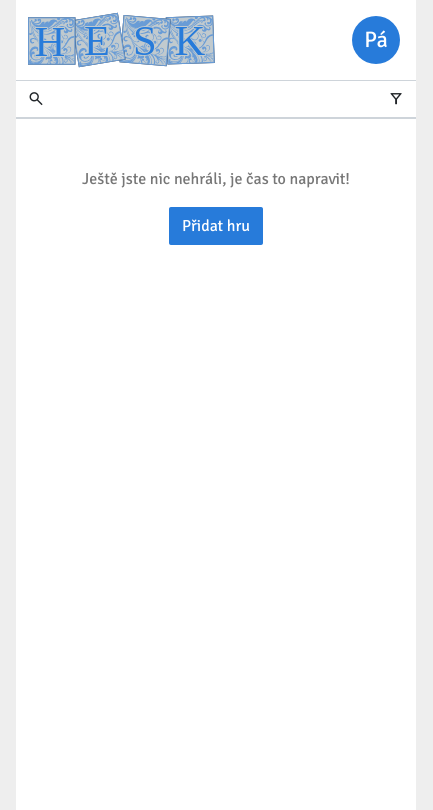
Test: App gating › keeps the user signed in and shows an error when logging out fails
Expected: the search field named "Hledat hru" is shown, [16, 80, 416, 118]
Click the button with aria-label "Menu – Pátek": point(376, 40) [352, 16, 400, 64]
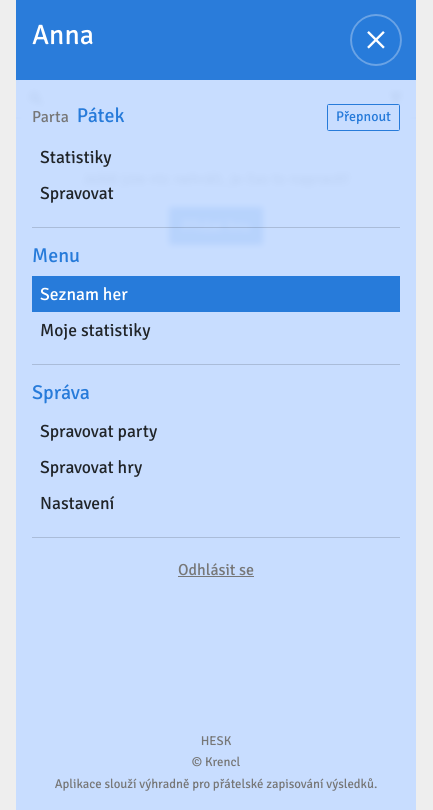
Click the button "Odhlásit se": point(216, 570) [170, 554, 262, 587]
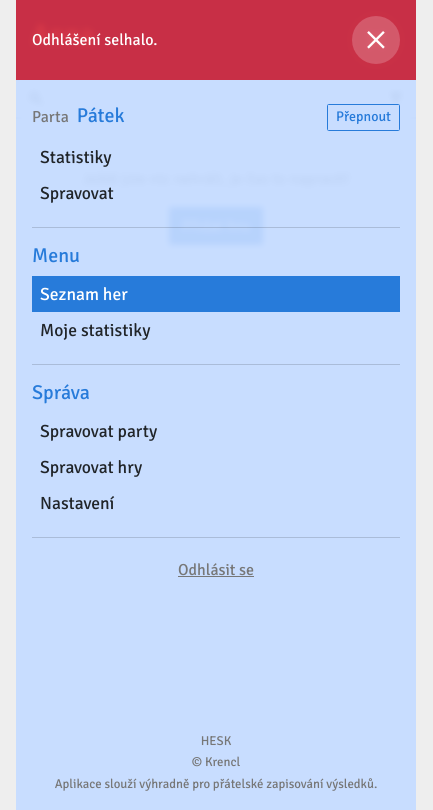
Expected: the button "Odhlásit se" is enabled, [170, 554, 262, 587]
Expected: the text "Odhlášení selhalo." is shown, [32, 30, 158, 50]
